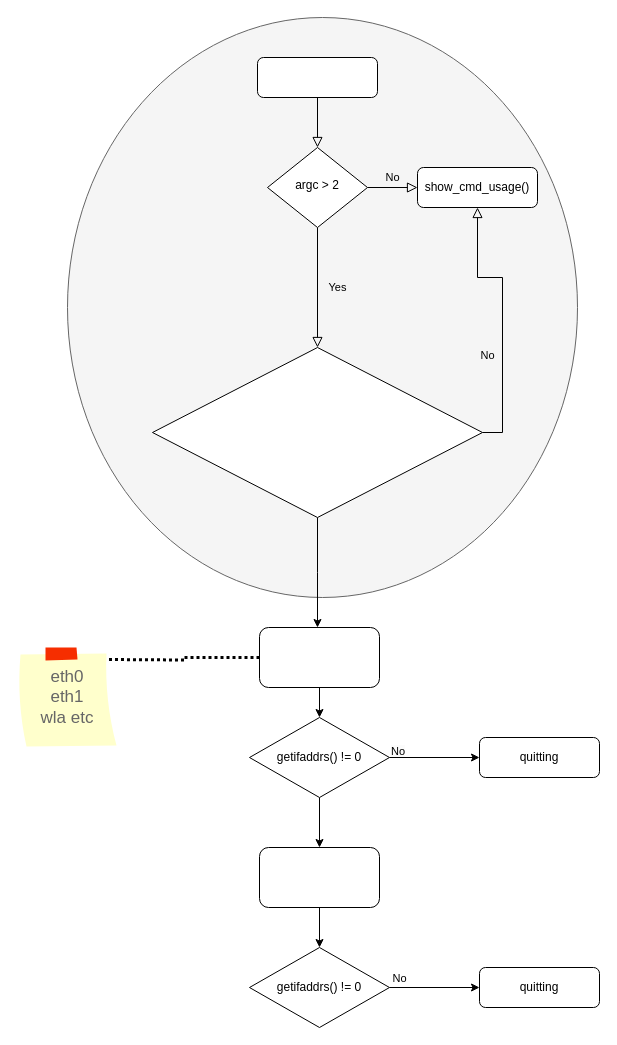
Image size: 617x1045. Some labels were removed from this diagram. Here are the shapes that lost their labels. From the top down, the box of each, then its label:
(256, 56, 378, 98): ifshow cmd
(152, 346, 482, 518): (argv[1] =="-a"&& argc == 2) || (argv[1]"-i" && argc == 3)
(258, 626, 380, 688): Get Interfaces list with getifaddrs()
(258, 846, 380, 908): init if_info table with init_struct_tab()
